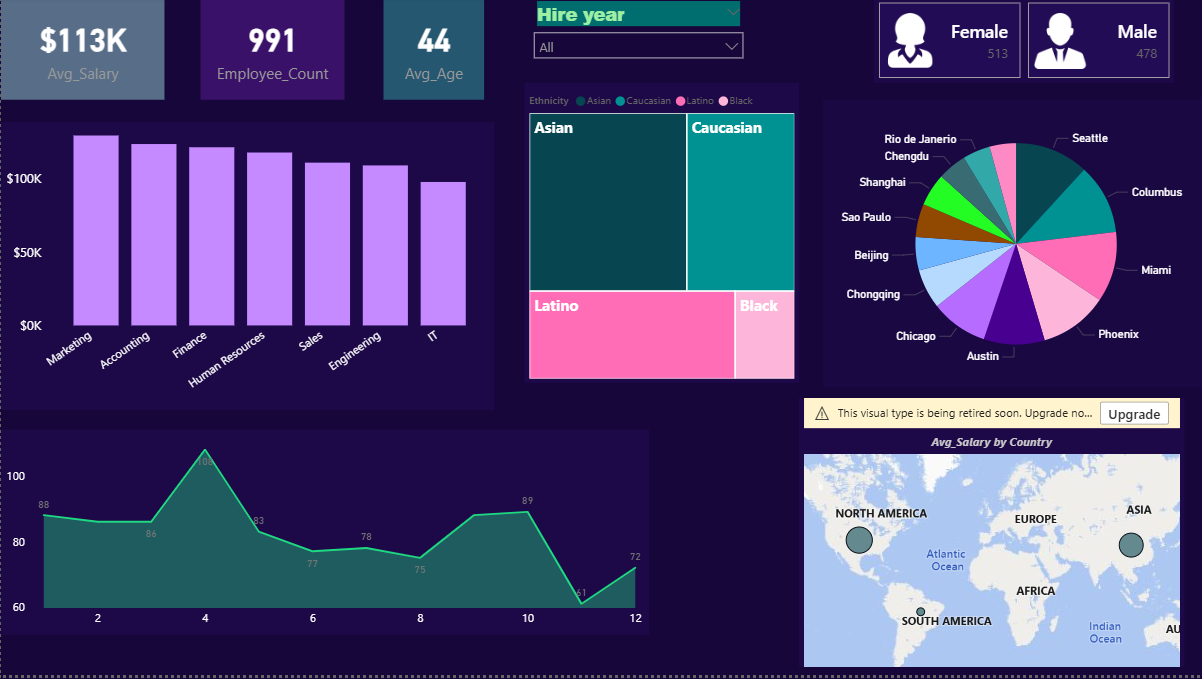

Layout of this report page (visuals, bound fields, positions):
{"tool":"powerbi","page":{"name":"Page 1","canvas":[1280,720],"ordinal":0},"visuals":[{"type":"clusteredColumnChart","fields":{"Category":["TBL_Employees.Department"],"Y":["TBL_Employees.AvgSalary"]},"box":[0,133.6,523.3,305.4],"z":0},{"type":"slicer","fields":{"Values":["TBL_Employees.Hire year"]},"box":[555.1,0,241.8,71.6],"z":1000},{"type":"areaChart","fields":{"Category":["TBL_Employees.Hire month"],"Y":["CountNonNull(TBL_Employees.EEID)"]},"box":[0,459.7,687.1,217.9],"z":2000},{"type":"map","fields":{"Size":["TBL_Employees.AvgSalary"],"Category":["TBL_Employees.Country"]},"box":[846.2,426.3,408.8,284.7],"z":3000},{"type":"card","fields":{"Values":["TBL_Employees.AvgSalary"]},"box":[0,0,173.4,109.8],"z":4000},{"type":"card","fields":{"Values":["TBL_Employees.Employee_Count"]},"box":[211.6,0,152.7,109.8],"z":5000},{"type":"card","fields":{"Values":["TBL_Employees.Avg_Age"]},"box":[405.6,0,106.6,109.8],"z":6000},{"type":"treemap","fields":{"Group":["TBL_Employees.Ethnicity"],"Values":["Count(TBL_Employees.EEID)"]},"box":[555.1,92.3,291.1,318.1],"z":7000},{"type":"pieChart","fields":{"Y":["TBL_Employees.Employee_Count"],"Category":["TBL_Employees.City"]},"box":[871.7,109.8,408.8,305.4],"z":8000},{"type":"advancedSlicerVisual","fields":{"Values":["TBL_Employees.Gender"]},"box":[925.7,1.6,318.1,90.7],"z":9000},{"type":"image","box":[925.7,12.7,76.3,68.4],"z":9001},{"type":"image","box":[1084.8,12.7,77,70],"z":9002}]}

Visuals, with their boxes in screenshot pixels (x1, y1, x2, y2), scaled from the page's 1280x720 canvas onto the 1202x679 screenshot:
clusteredColumnChart - TBL_Employees.Department x TBL_Employees.AvgSalary: locate(0, 126, 491, 414)
slicer - TBL_Employees.Hire year: locate(521, 0, 748, 68)
areaChart - TBL_Employees.Hire month x CountNonNull(TBL_Employees.EEID): locate(0, 434, 645, 639)
map - TBL_Employees.AvgSalary x TBL_Employees.Country: locate(795, 402, 1179, 671)
card - TBL_Employees.AvgSalary: locate(0, 0, 163, 104)
card - TBL_Employees.Employee_Count: locate(199, 0, 342, 104)
card - TBL_Employees.Avg_Age: locate(381, 0, 481, 104)
treemap - TBL_Employees.Ethnicity x Count(TBL_Employees.EEID): locate(521, 87, 795, 387)
pieChart - TBL_Employees.Employee_Count x TBL_Employees.City: locate(819, 104, 1201, 392)
advancedSlicerVisual - TBL_Employees.Gender: locate(869, 2, 1168, 87)
image: locate(869, 12, 941, 76)
image: locate(1019, 12, 1091, 78)
